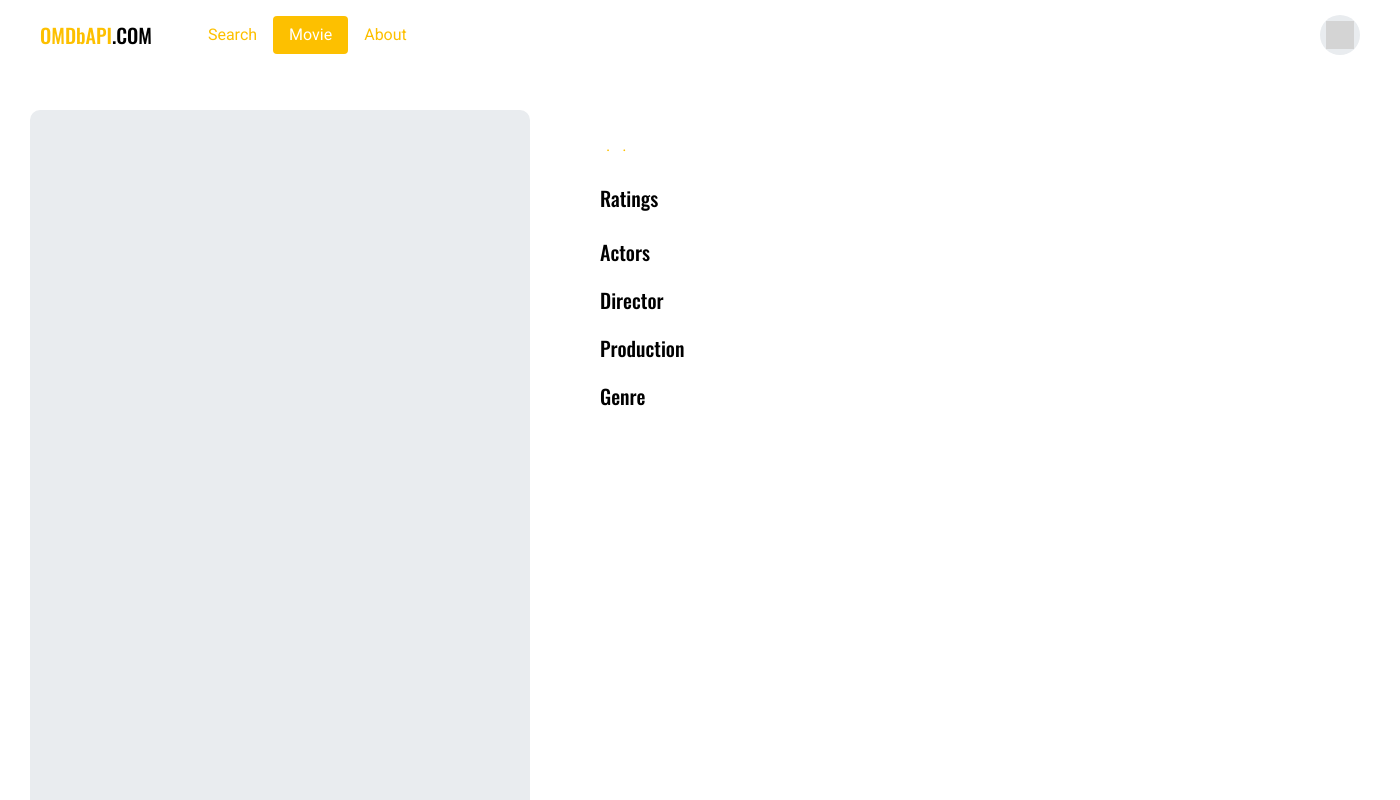
it: About 페이지로 이동 › 사용자 로고를 클릭, About 페이지로 이동합니다
Click the element with class "user" at (1340, 35), box [1320,15,1360,55]
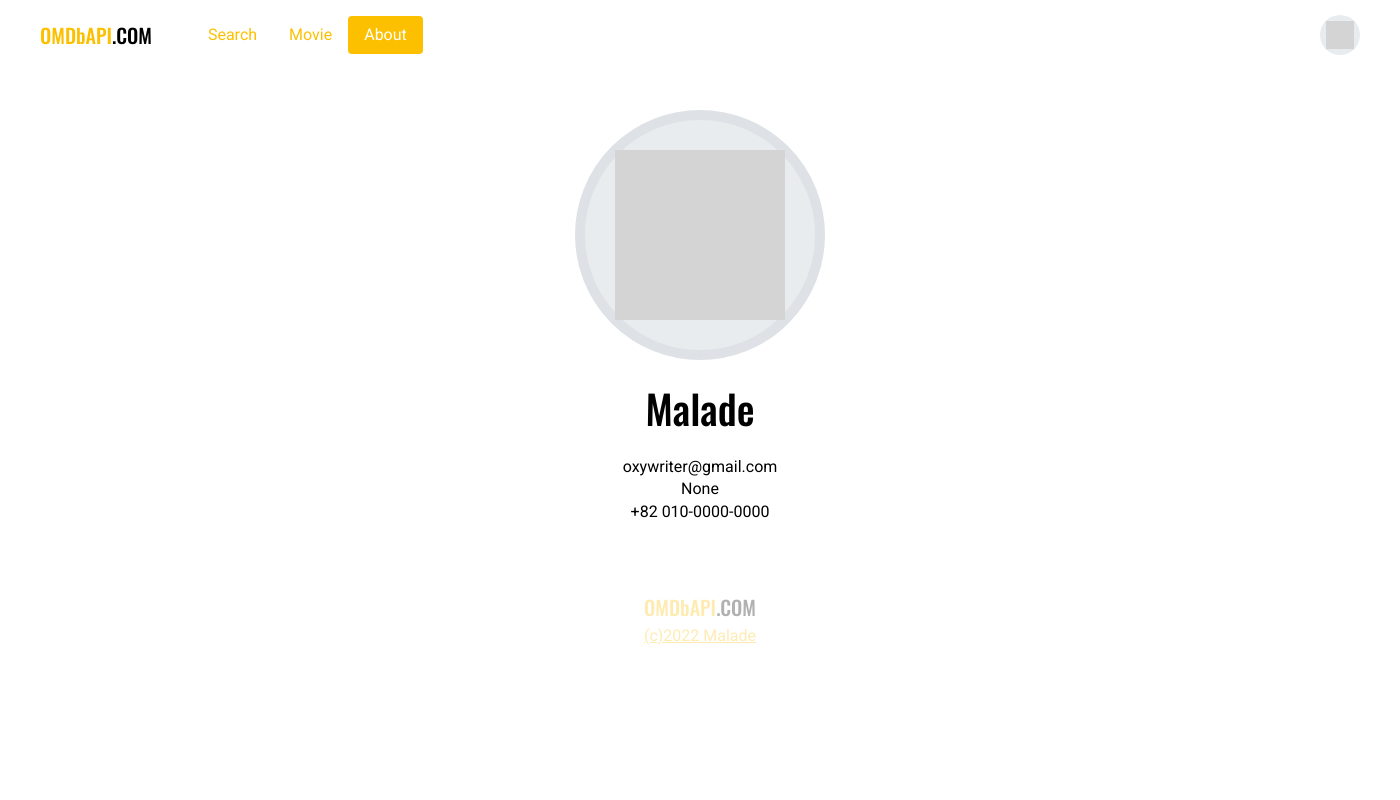
Result: the text "Malade" is shown at [646,378,754,438]
